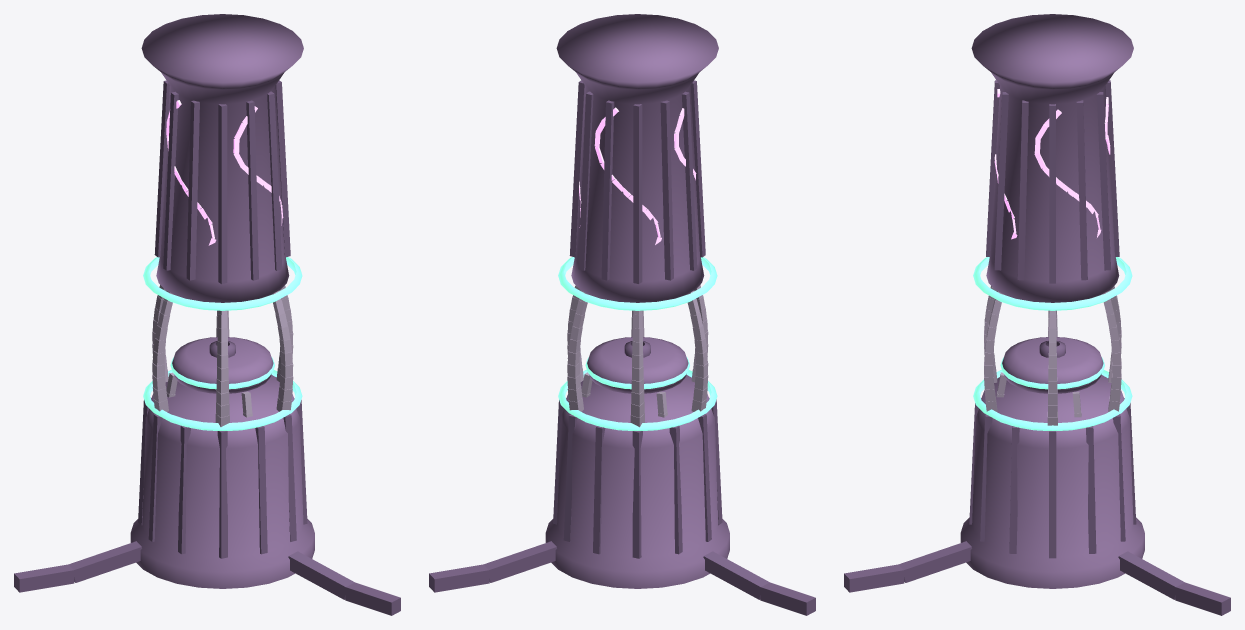
Rendered from ship_pods.glb.
3 views of the same model, side by side, from view 1: azimuth 30°, elevation 25°; view 2: azimuth 150°, elevation 25°; view 3: azimuth 270°, elevation 25° (orthographic).
Visible parts, largest first — view 1: ms_machine_mesh, ms_pod_mesh; view 2: ms_machine_mesh, ms_pod_mesh; view 3: ms_machine_mesh, ms_pod_mesh.
Boxes of the visible parts, <box> form: ms_machine_mesh: <box>14,14,400,615</box>; ms_pod_mesh: <box>166,337,274,417</box>; ms_machine_mesh: <box>429,14,815,615</box>; ms_pod_mesh: <box>581,337,689,417</box>; ms_machine_mesh: <box>844,14,1230,615</box>; ms_pod_mesh: <box>996,337,1104,417</box>.
Bounding box in the file's own units: 4.93 × 7.58 × 5.24.
